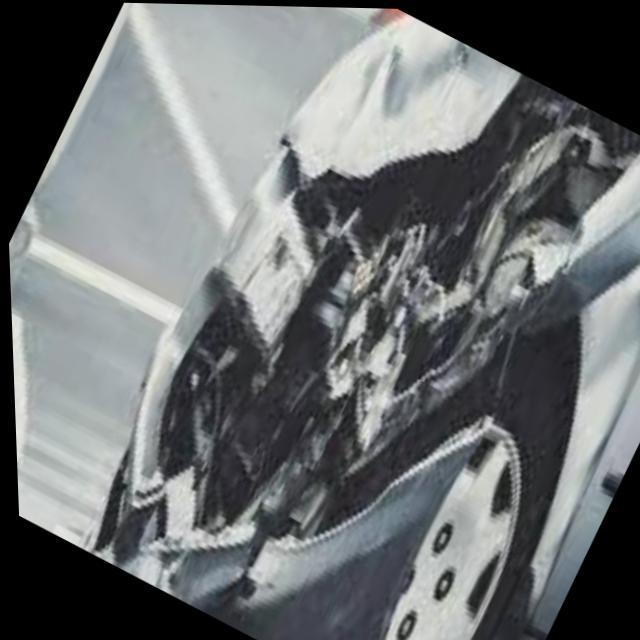crash: (87, 10, 640, 640)
